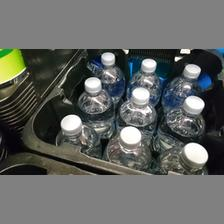Wasser: (51, 112, 101, 156), (104, 124, 152, 168), (76, 75, 112, 131), (157, 94, 207, 134), (153, 136, 207, 172), (119, 86, 158, 134), (122, 55, 162, 100), (161, 59, 203, 101), (92, 51, 124, 102)
